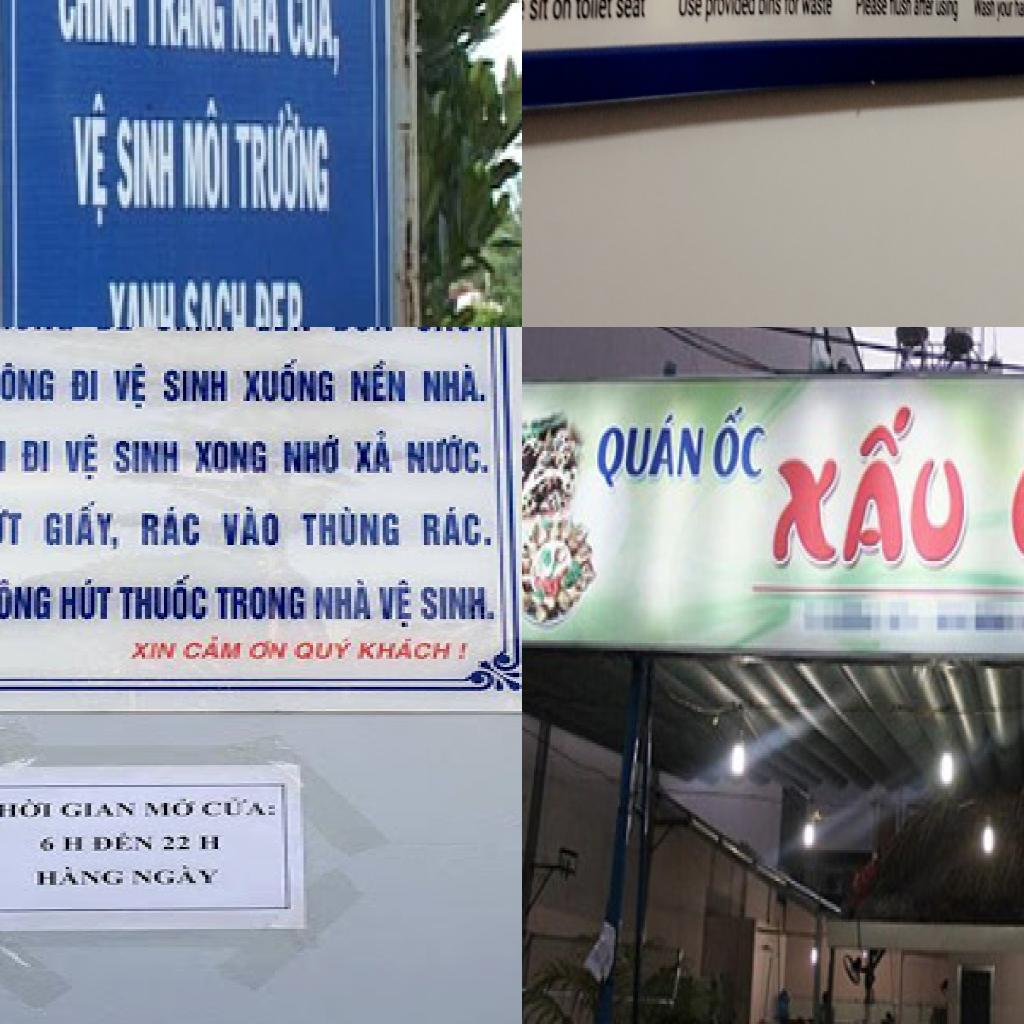text: (771, 402, 969, 574), (232, 104, 334, 221), (594, 412, 708, 490), (68, 91, 117, 237), (117, 114, 181, 218), (180, 94, 232, 218), (51, 0, 141, 58), (136, 0, 229, 55), (285, 0, 346, 81), (240, 357, 342, 405), (116, 573, 212, 623), (297, 507, 405, 549), (40, 499, 123, 553), (712, 405, 770, 482), (104, 273, 180, 327), (224, 0, 287, 61), (405, 435, 494, 477), (178, 276, 251, 327), (215, 585, 310, 623), (418, 505, 497, 549), (345, 357, 411, 405), (189, 439, 272, 477), (354, 637, 475, 663), (418, 585, 500, 623), (218, 503, 284, 549), (251, 276, 309, 327), (110, 437, 183, 477), (139, 505, 205, 549), (310, 579, 376, 623), (421, 363, 490, 405), (281, 433, 345, 477), (56, 579, 120, 623), (161, 367, 234, 405), (0, 361, 59, 407), (0, 579, 56, 625), (351, 429, 399, 477), (110, 361, 155, 411), (59, 433, 104, 483), (376, 577, 418, 629), (31, 867, 129, 889), (180, 635, 249, 663), (59, 799, 142, 821), (291, 637, 360, 663), (202, 797, 281, 819), (91, 831, 158, 855), (66, 367, 107, 405), (126, 639, 183, 663), (0, 505, 30, 549), (142, 799, 202, 821), (161, 833, 227, 853), (0, 799, 59, 821), (18, 439, 53, 475), (703, 0, 757, 23), (246, 639, 294, 663), (37, 833, 88, 855), (574, 0, 613, 20), (614, 0, 647, 21), (800, 0, 835, 19), (853, 0, 888, 18), (935, 0, 959, 26), (677, 0, 702, 20), (971, 0, 997, 19), (526, 0, 549, 21), (549, 0, 572, 21), (757, 0, 782, 18), (888, 0, 913, 18), (0, 439, 12, 475), (914, 0, 935, 19), (996, 1, 1014, 22), (782, 0, 801, 18), (1012, 0, 1024, 24)
